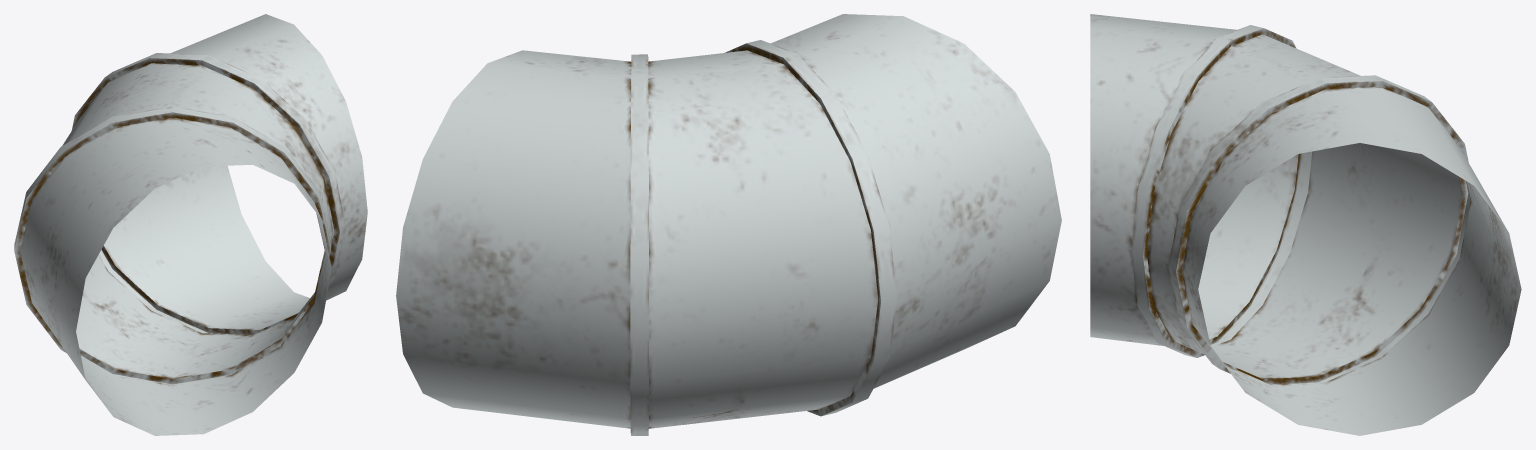
Rendered from elbow_90.glb.
3 renders of one model, left to right at view 1: azimuth 30°, elevation 25°; view 2: azimuth 150°, elevation 25°; view 3: azimuth 270°, elevation 25°, orthographic. The views are drawn at different scales.
Visible parts, largest first — view 1: duct_90arc_low_1; view 2: duct_90arc_low_1; view 3: duct_90arc_low_1.
Boxes of the visible parts, x1,y1,x2,y2 form: duct_90arc_low_1: (14,14,367,435); duct_90arc_low_1: (396,14,1061,435); duct_90arc_low_1: (1090,14,1521,435).
Size of the model in its own units: 0.4 by 0.3117 by 0.4.
Materials: 1 (1 with a texture image).
